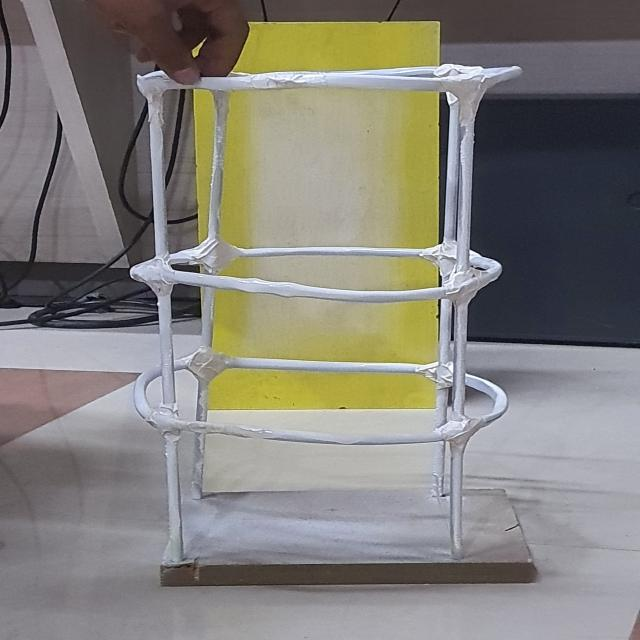silo: (116, 64, 492, 554)
